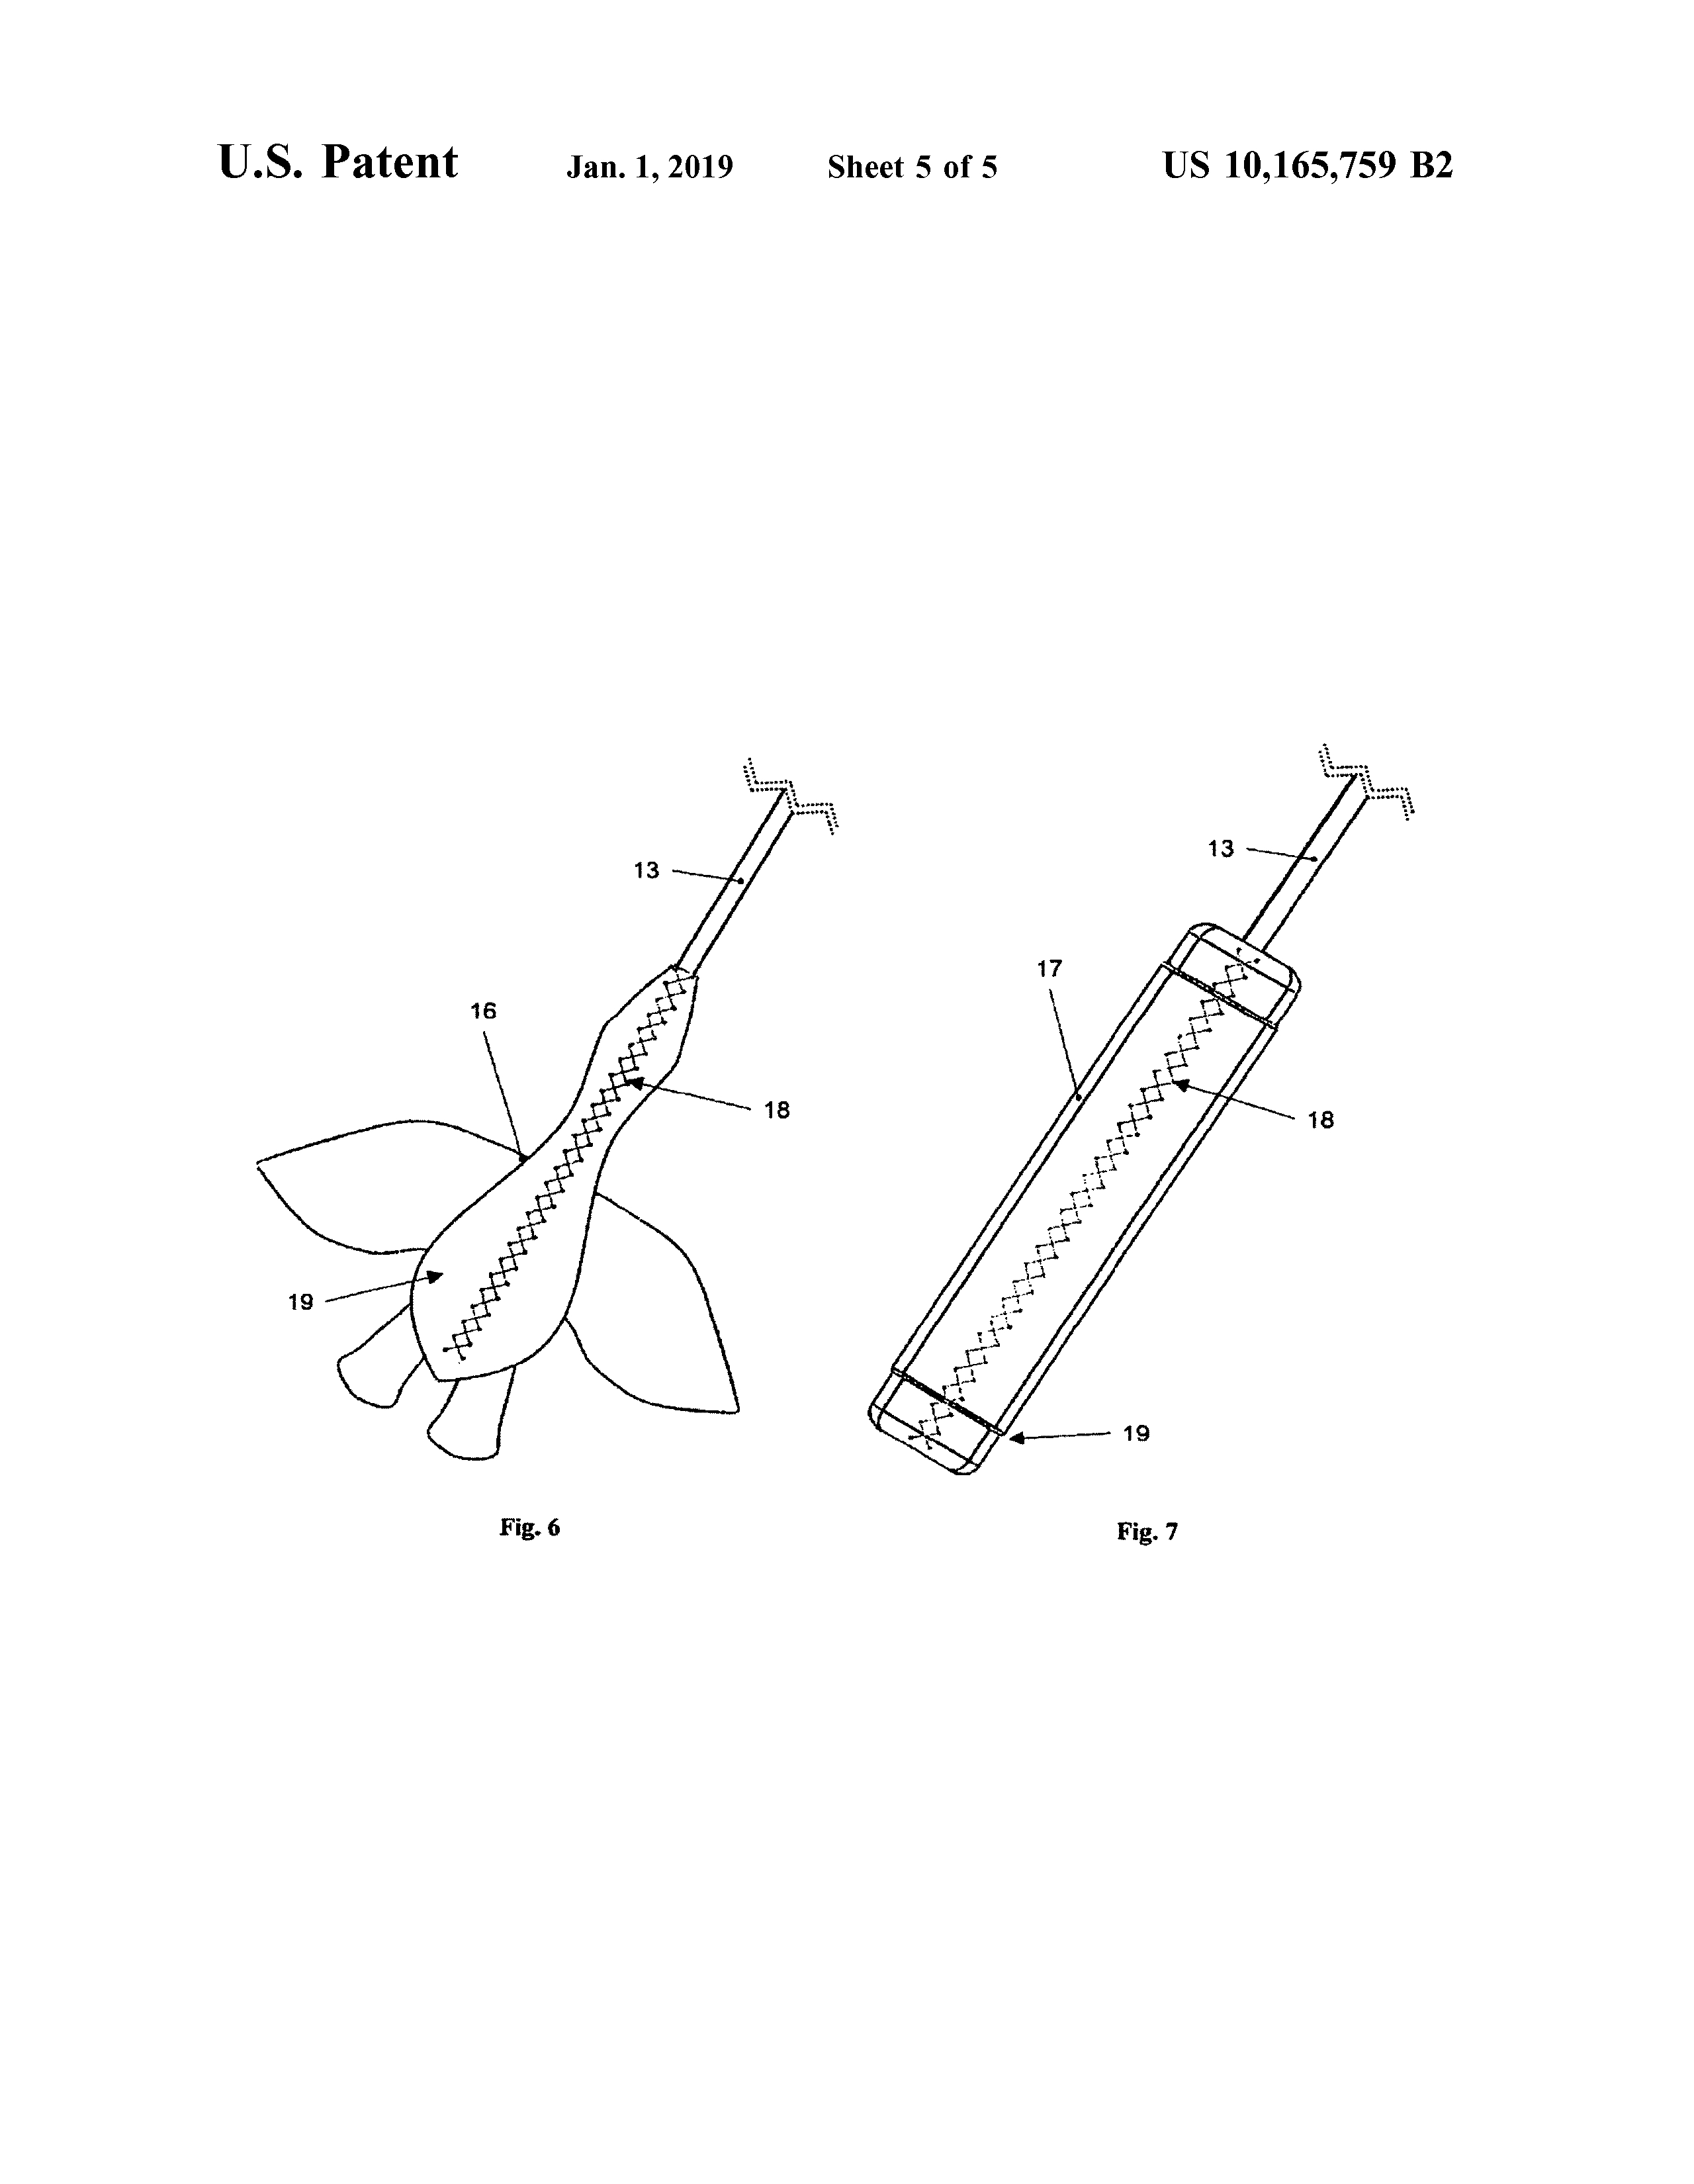patent image: (231, 703, 856, 1582), (856, 705, 1427, 1563)
